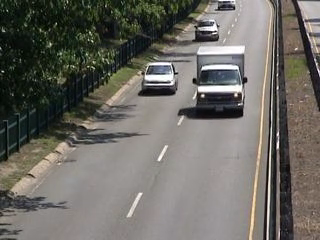car: (141, 59, 180, 98), (194, 18, 223, 46), (216, 1, 239, 12)
truck: (192, 45, 250, 121)
